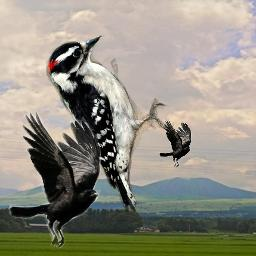Crow: (9, 111, 102, 251), (159, 119, 192, 169)
Woodpecker: (46, 35, 174, 212)
